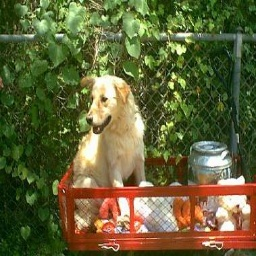dog: (57, 71, 151, 235)
